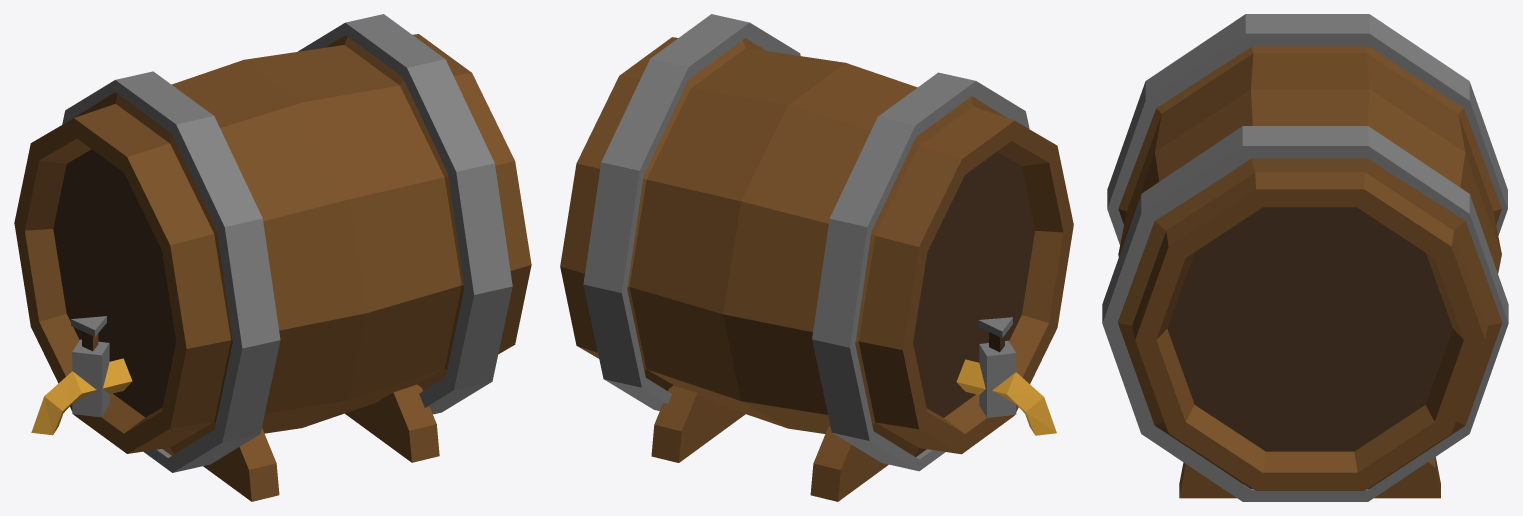
File: keg.fbx
3 views of the same model, side by side, from view 1: azimuth 30°, elevation 25°; view 2: azimuth 150°, elevation 25°; view 3: azimuth 270°, elevation 25° (orthographic). The views are drawn at different scales.
Visible parts, largest first — view 1: keg; view 2: keg; view 3: keg.
Boxes of the visible parts, x1,y1,x2,y2 form: keg: (14,14,531,501); keg: (560,14,1073,501); keg: (1102,14,1508,501).
Bounding box in the file's own units: 151 × 128 × 126.
